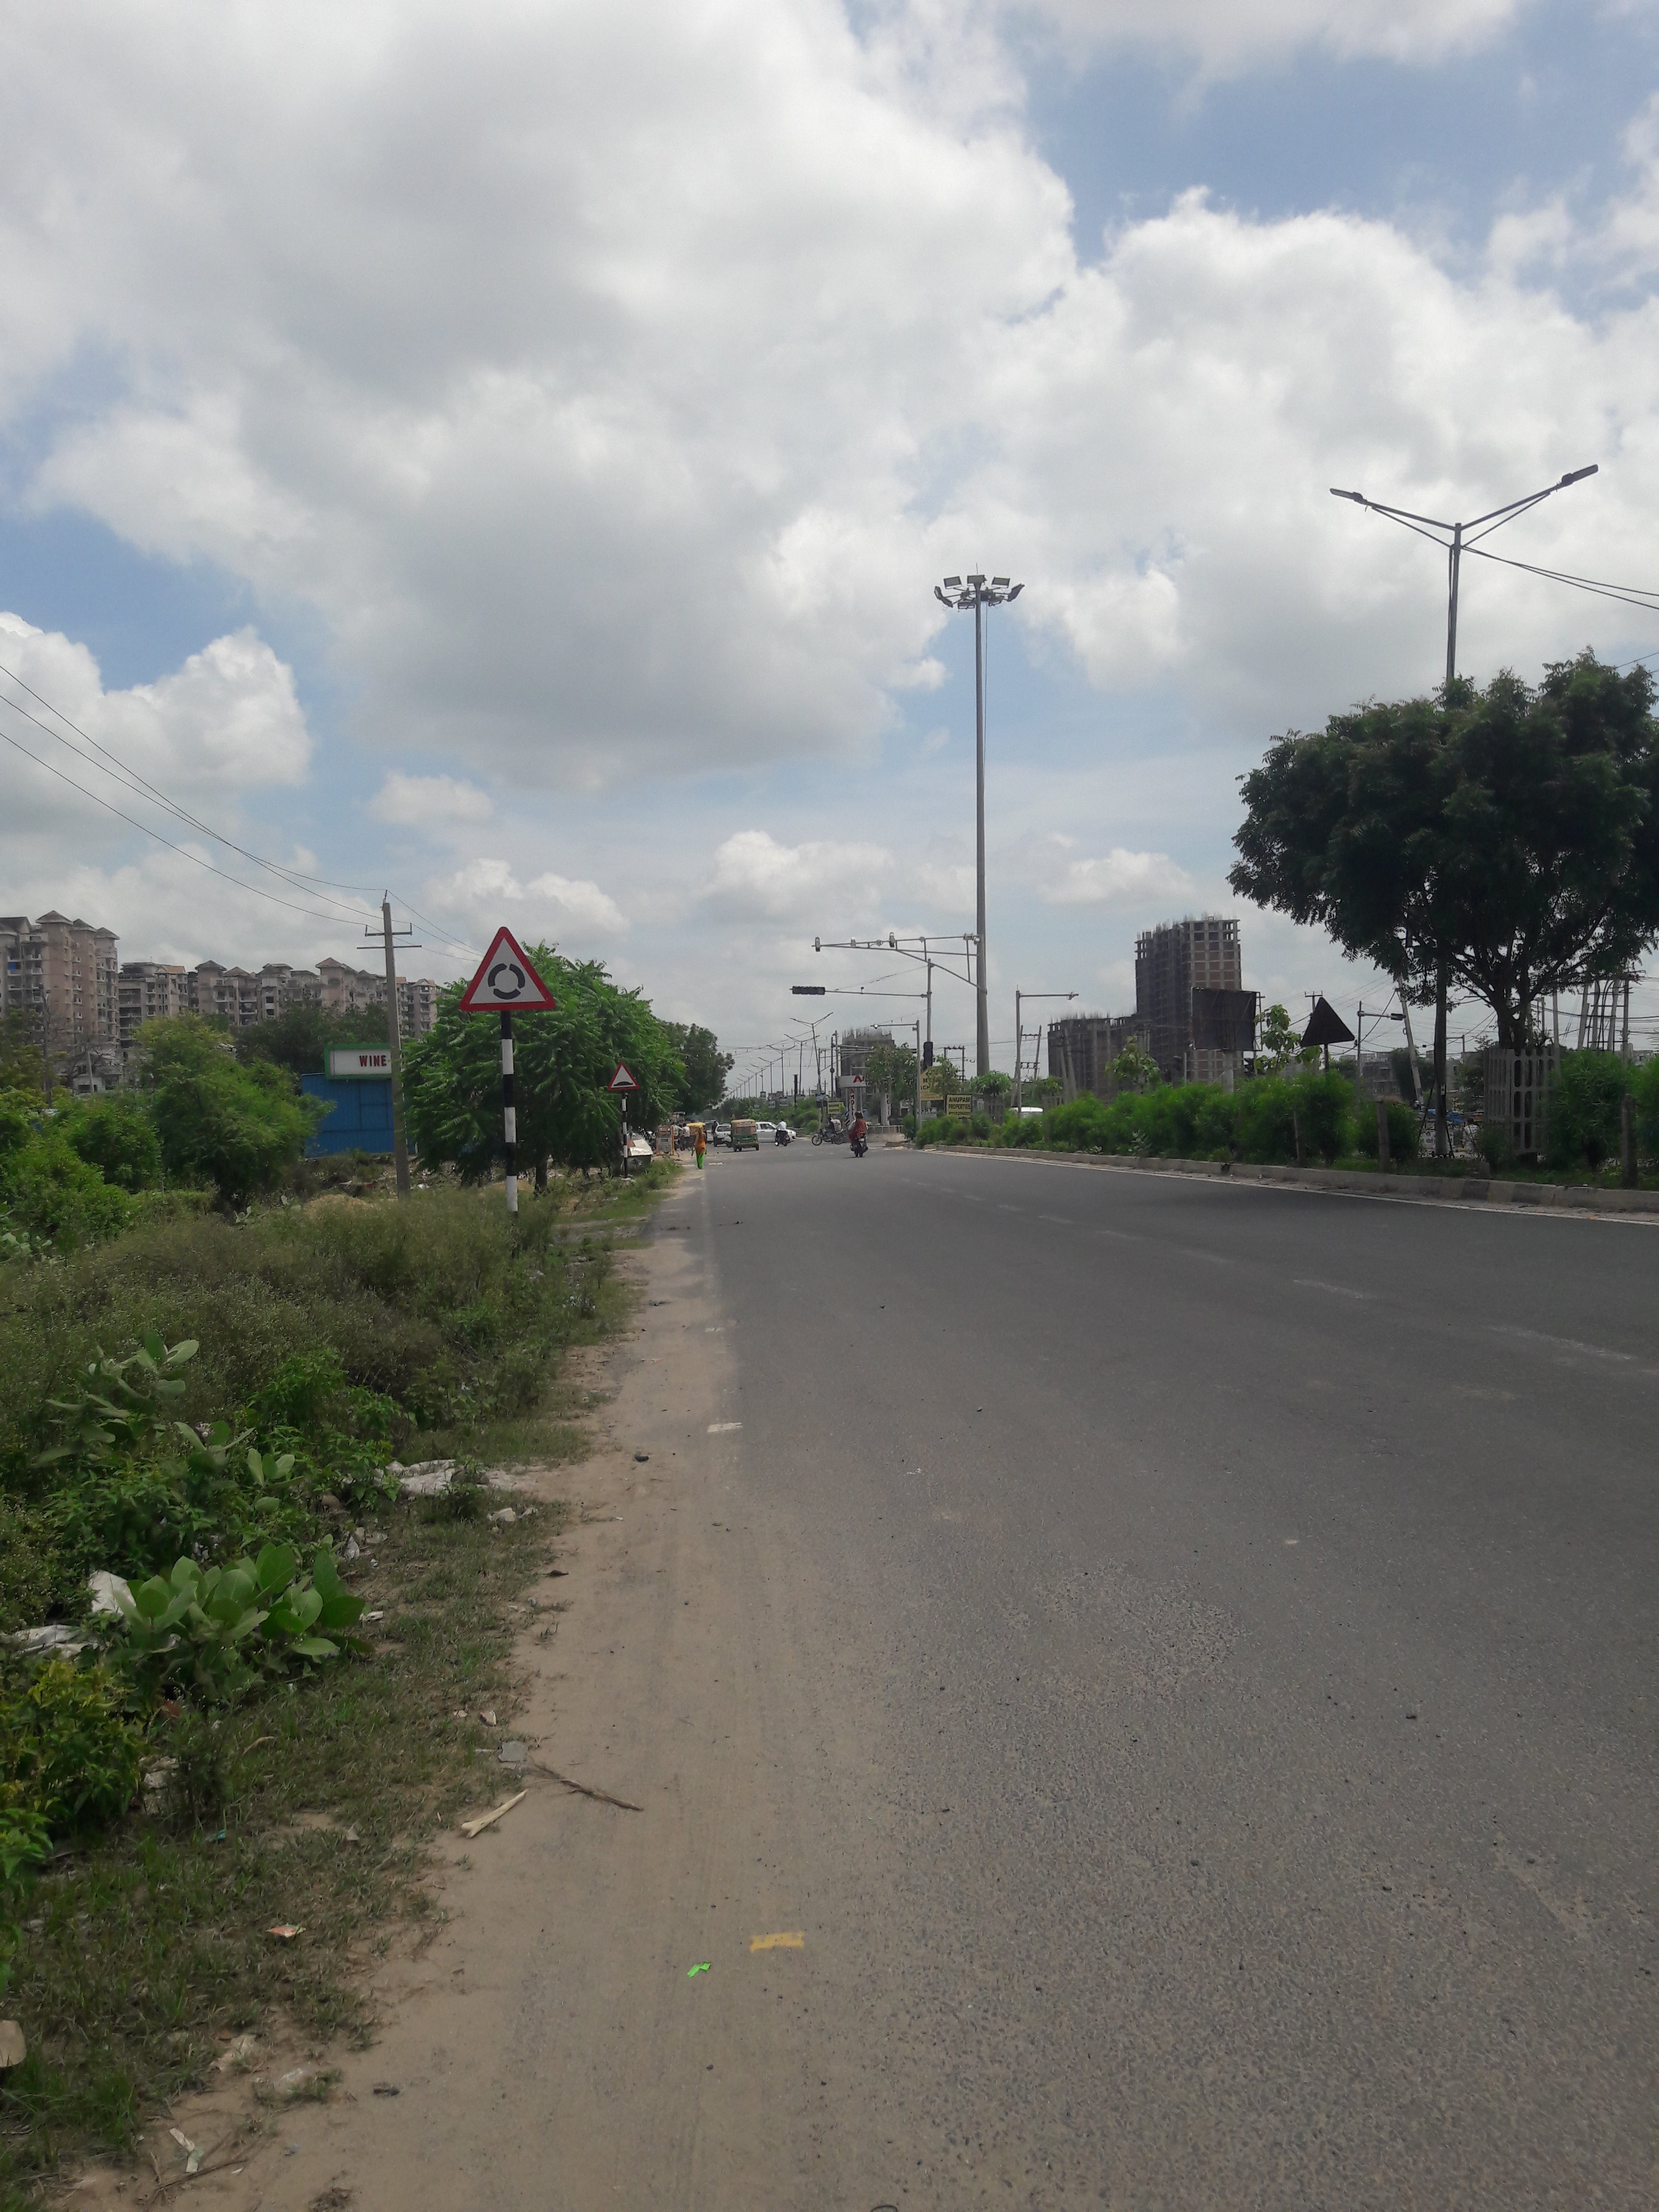traffic_sign: (457, 925, 556, 1012), (606, 1062, 640, 1089), (791, 986, 824, 995), (924, 1040, 932, 1071)
